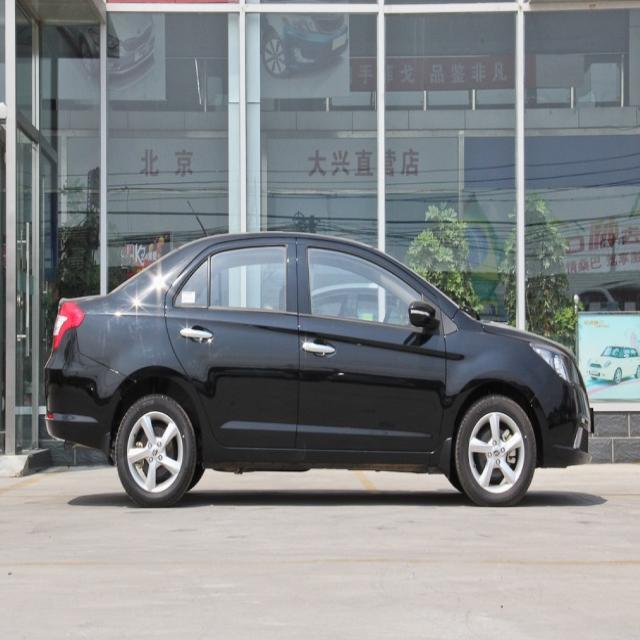back_right_side_light: (51, 298, 86, 352)
door: (164, 240, 295, 468)
front_right_side_door: (294, 234, 447, 455)
front_right_side_light: (528, 339, 580, 386)
front_right_side_mirror: (408, 300, 436, 330)
wheel: (114, 393, 198, 509), (456, 394, 536, 507)
